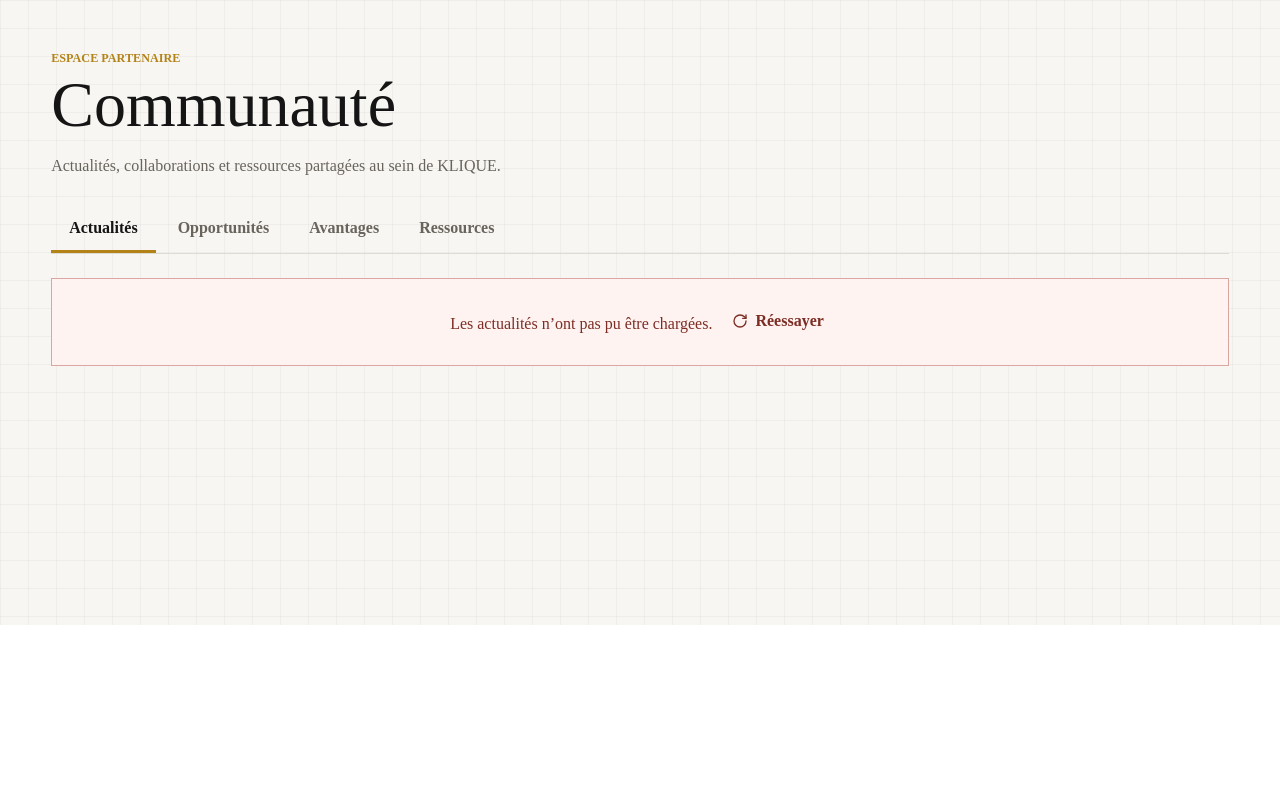
Scenario: PartnerCommunityPage › shows an isolated error and retry action for every tab
The image size is (1280, 800).
Expected: the message "Les actualités n’ont pas pu être chargées. Réessayer" is shown, [51,278,1229,366]
Click the tab "Opportunités": (223, 230) [160,206,287,252]
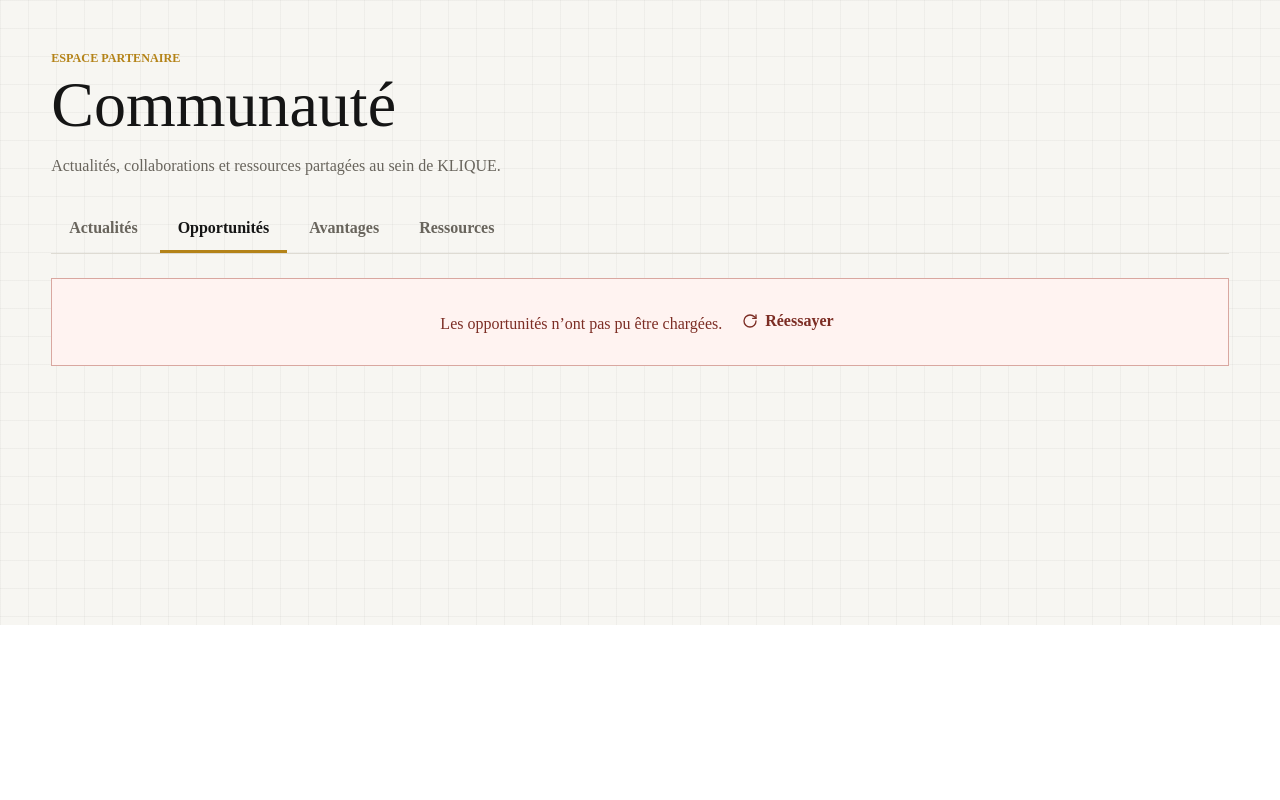
Expected: the message "Les opportunités n’ont pas pu être chargées. Réessayer" is shown, [51,278,1229,366]
Click the tab "Avantages": (344, 230) [291,206,397,252]
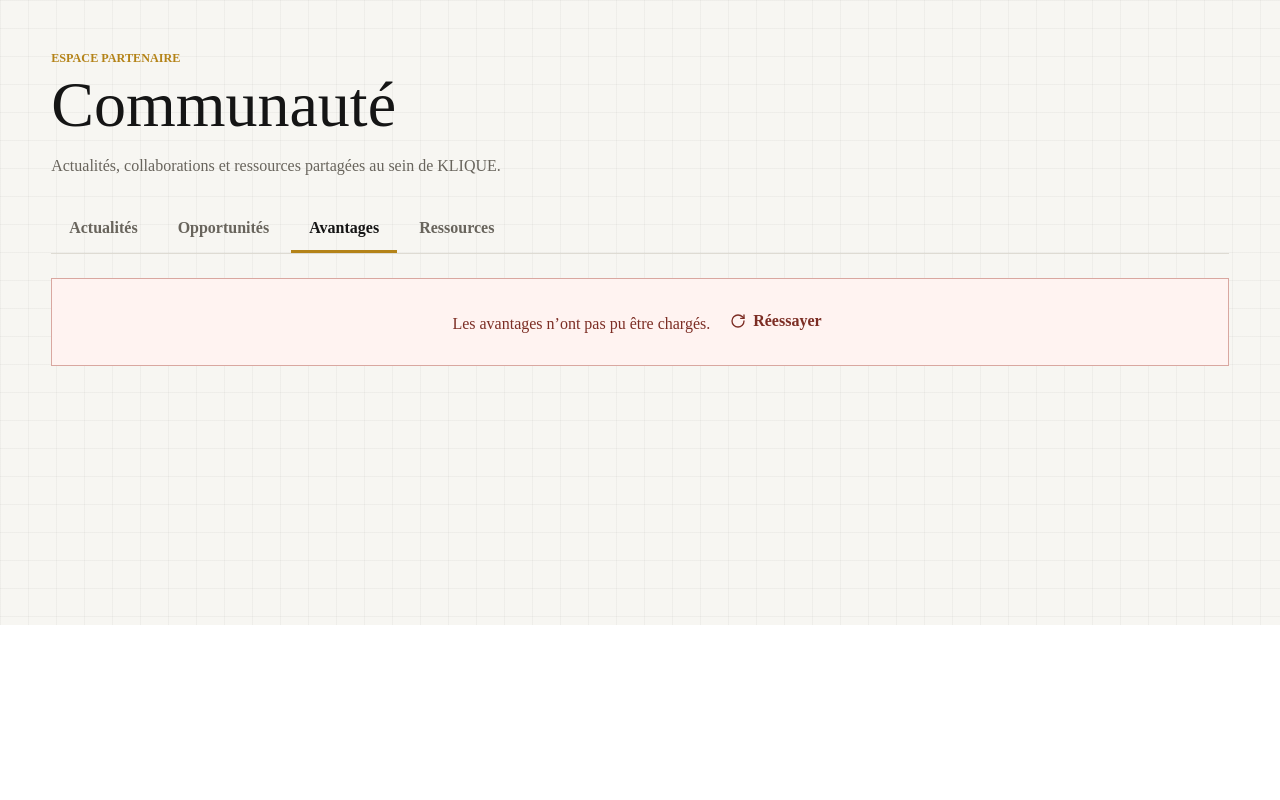
Expected: the message "Les avantages n’ont pas pu être chargés. Réessayer" is shown, [51,278,1229,366]
Click the tab "Ressources": (457, 230) [401,206,512,252]
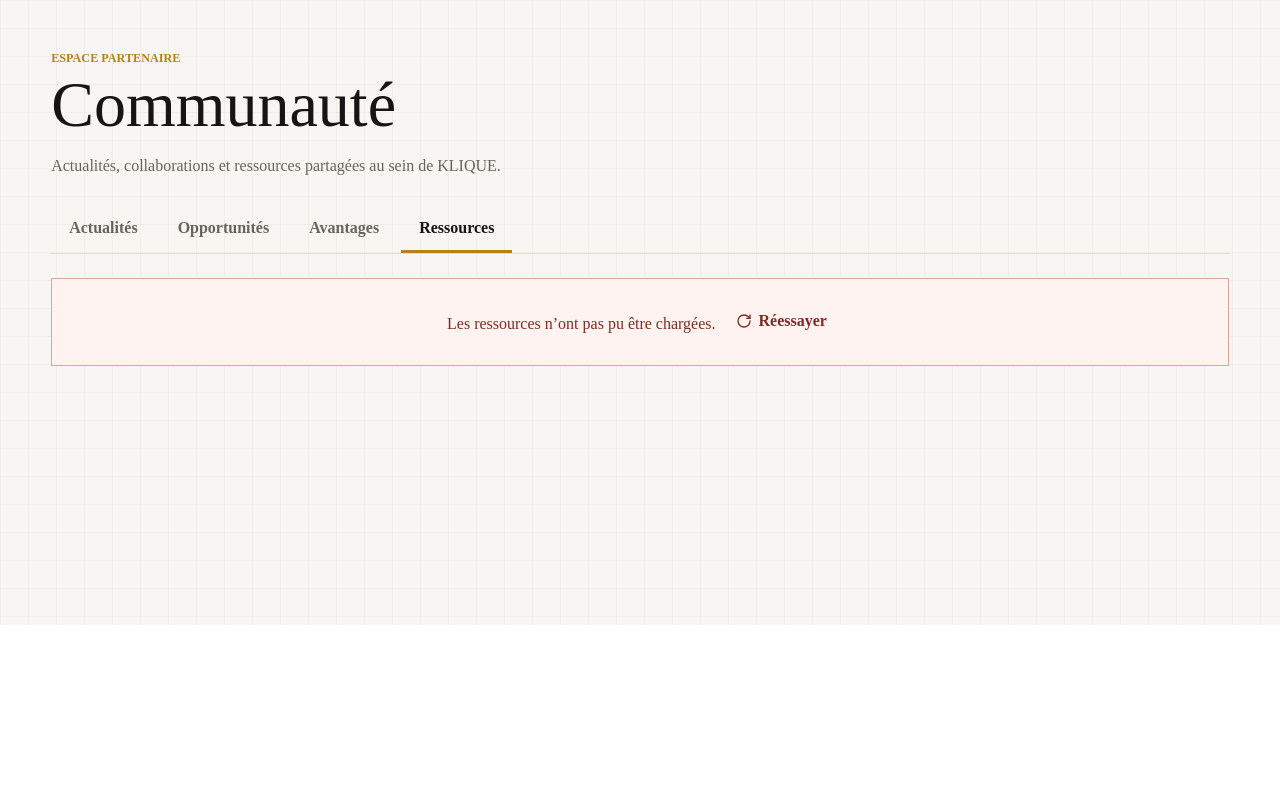
Expected: the message "Les ressources n’ont pas pu être chargées. Réessayer" is shown, [51,278,1229,366]
